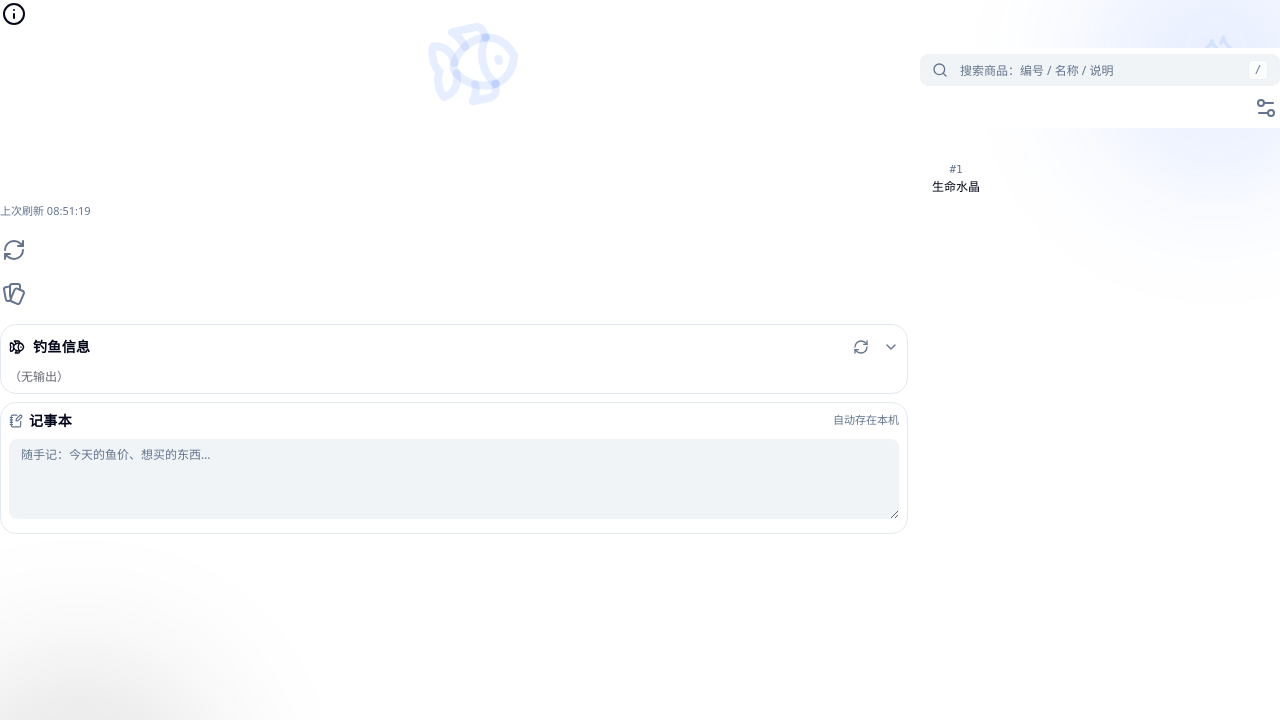
Scenario: FishShopPage › 点击商品弹出详情，价格与备注渲染为物品图标
What coordinates should you click on to do the following:
click the button "#1 生命水晶"
I would click on:
 (956, 142)
Its box is [920,88,992,195].
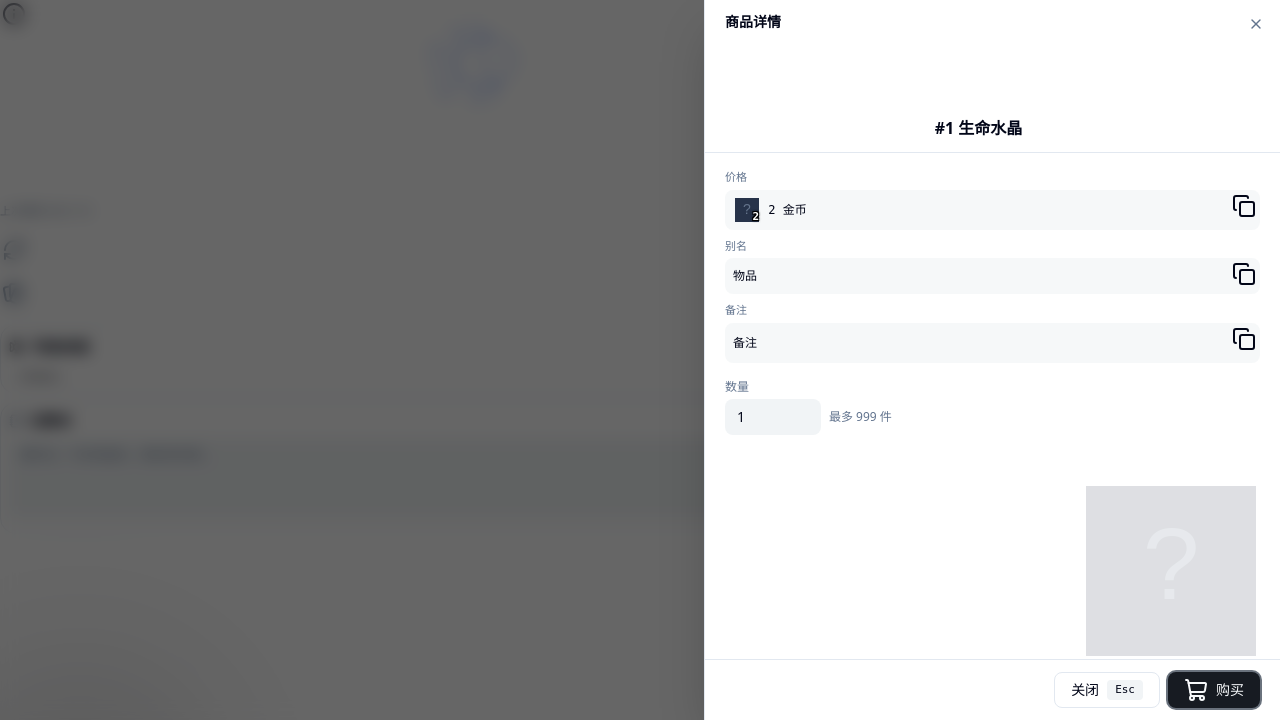
Now the text "#1 生命水晶" is shown, box [935,116,1022,140]
Now the text "2 金币" is shown, box [761,202,807,216]
Now the button "购买" is shown, box [1168,672,1260,708]
